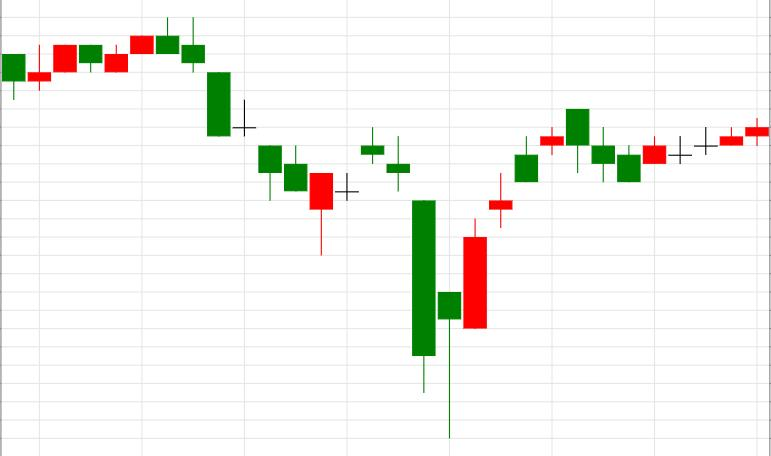hammer_rise: (156, 18, 333, 256), (361, 126, 461, 439)
